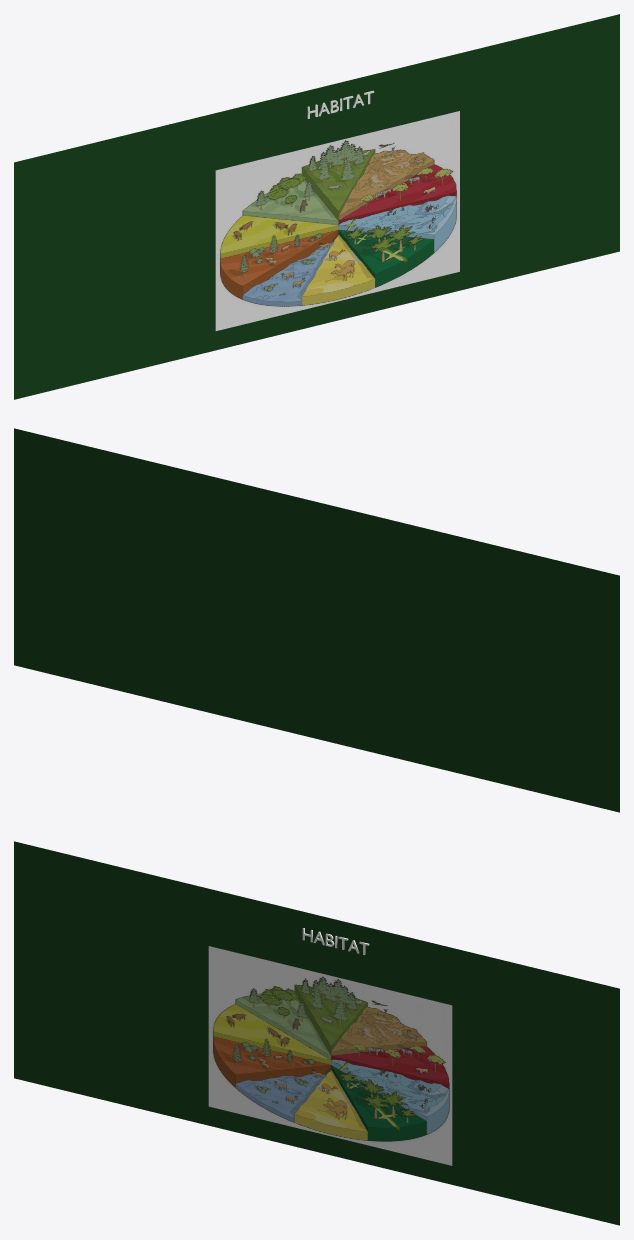
The model's file is habitat.gltf.
The picture shows the model from 3 angles, top to bottom: view 1: azimuth 30°, elevation 25°; view 2: azimuth 150°, elevation 25°; view 3: azimuth 330°, elevation 25°; orthographic projection.
Visible parts, largest first — view 1: Plane.013, Plane; view 2: Plane.013; view 3: Plane.013, Plane.
Part boxes in pixels (bbox=[...]): Plane.013: bbox=[14, 14, 619, 399]; Plane: bbox=[215, 111, 459, 330]; Plane.013: bbox=[14, 428, 619, 812]; Plane.013: bbox=[14, 841, 619, 1225]; Plane: bbox=[208, 946, 452, 1165].
Size of the model in its own units: 15.94 by 5.96 by 0.1767.
Materials: 3 (1 with a texture image).
